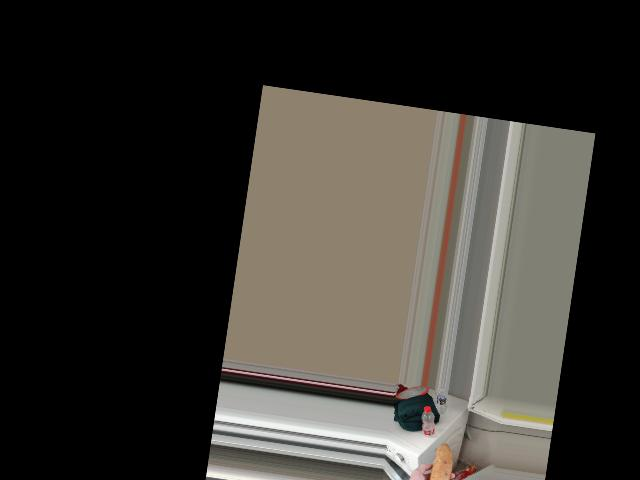sweet_potato: (425, 443, 456, 480)
